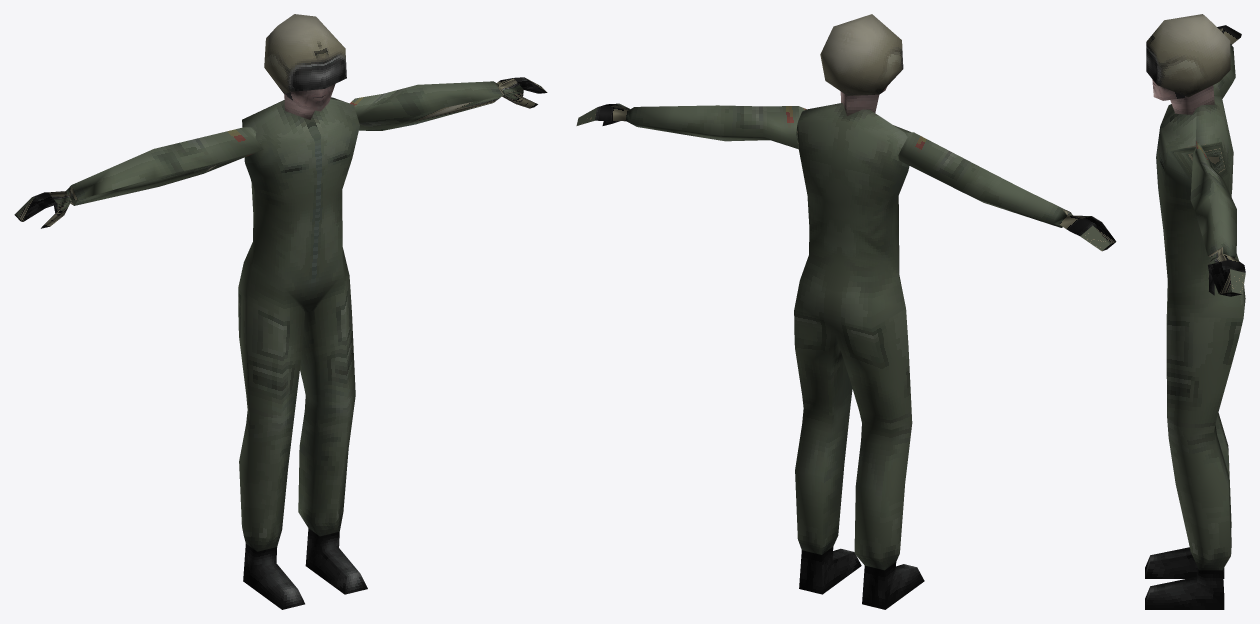
Rendered from PILOT_ARMS.glb.
3 views of the same model, side by side, from view 1: azimuth 30°, elevation 25°; view 2: azimuth 150°, elevation 25°; view 3: azimuth 270°, elevation 25° (orthographic).
Visible parts, largest first — view 1: Head, Head.001; view 2: Head, Head.001; view 3: Head, Head.001.
Boxes of the visible parts, x1,y1,x2,y2 form: Head: [14, 14, 367, 609]; Head.001: [349, 77, 547, 130]; Head: [794, 14, 1116, 609]; Head.001: [576, 103, 806, 148]; Head: [1145, 14, 1245, 609]; Head.001: [1190, 141, 1245, 296].
Size of the model in its own units: 2.05 by 2.09 by 0.3342.
Materials: 1 (1 with a texture image).
